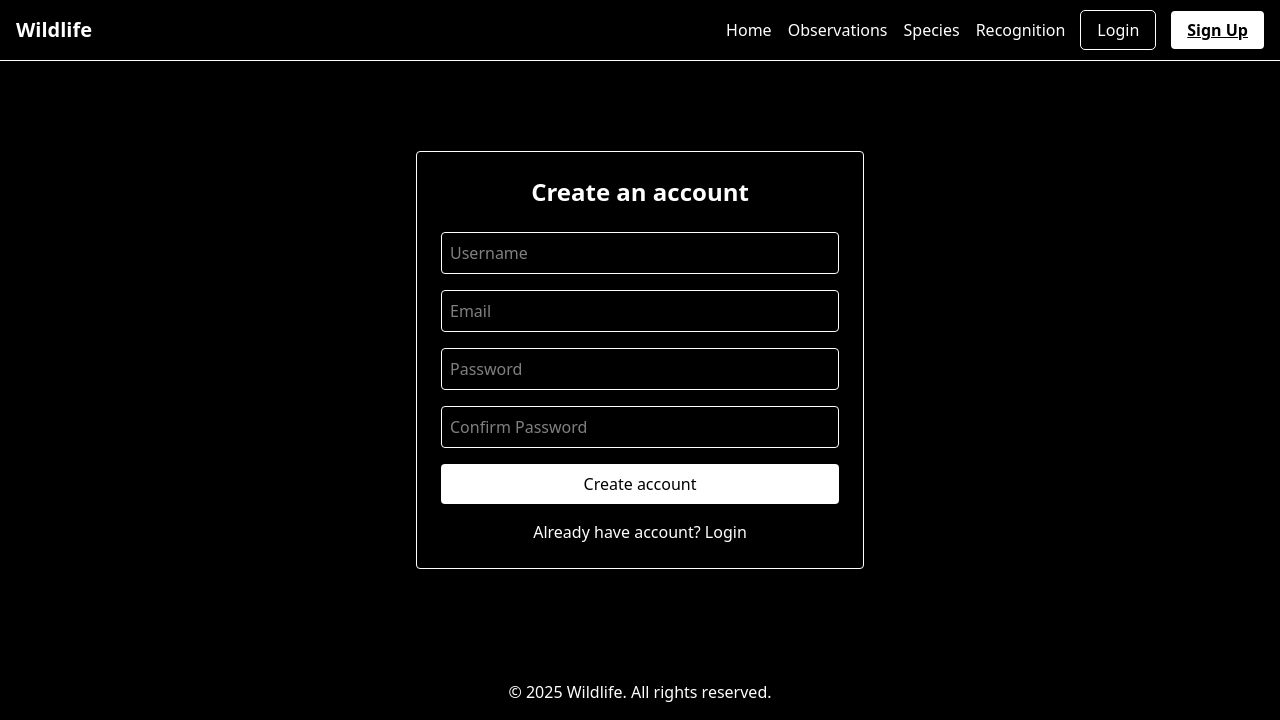
Test: SignUp Page › validates minimum username length
Type "ab" into the field with test id "username-input" at (640, 253), box [441, 232, 839, 274]
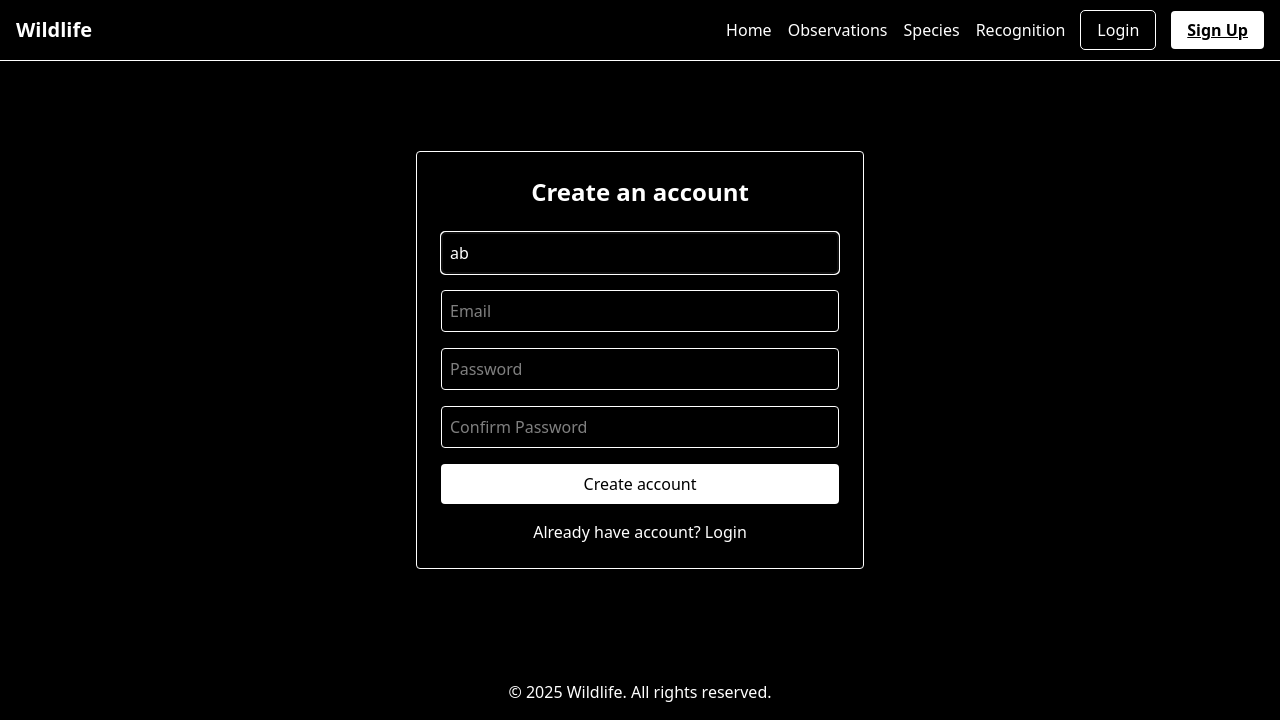
Type "test@example.com" into the field with test id "email-input" at (640, 311), box [441, 290, 839, 332]
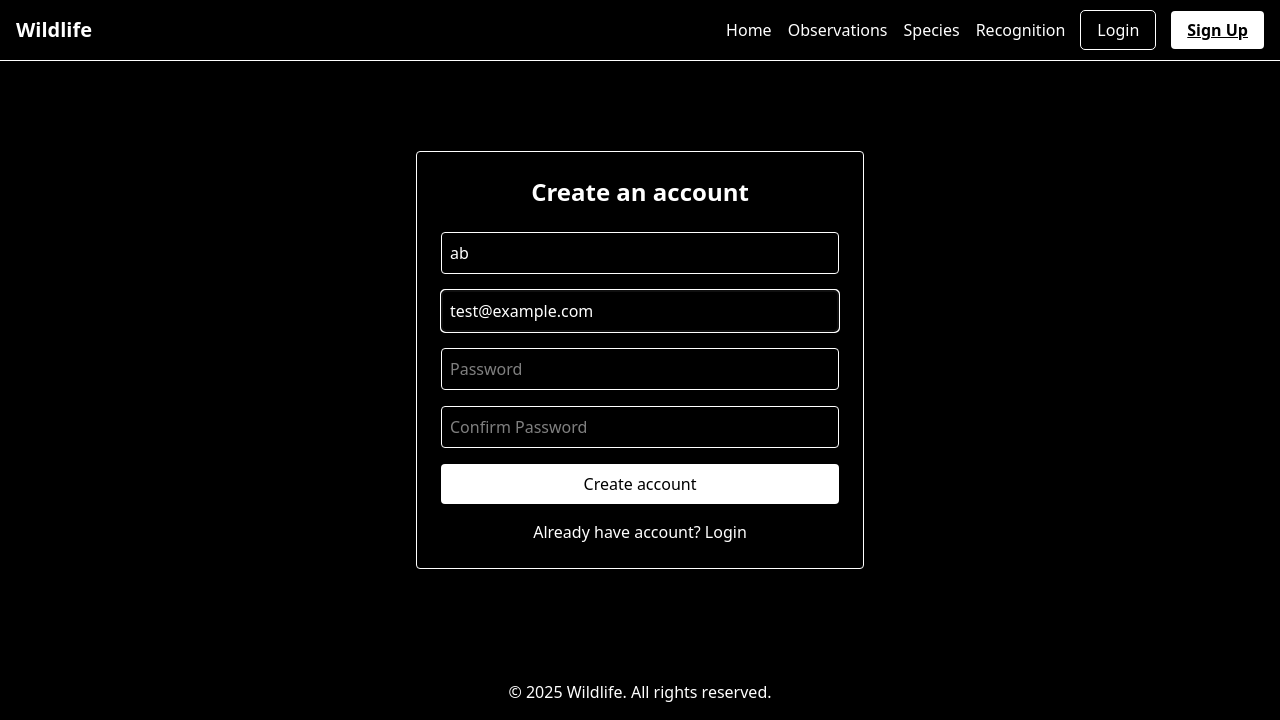
Type "123456" into the password field with test id "password-input" at (640, 369), box [441, 348, 839, 390]
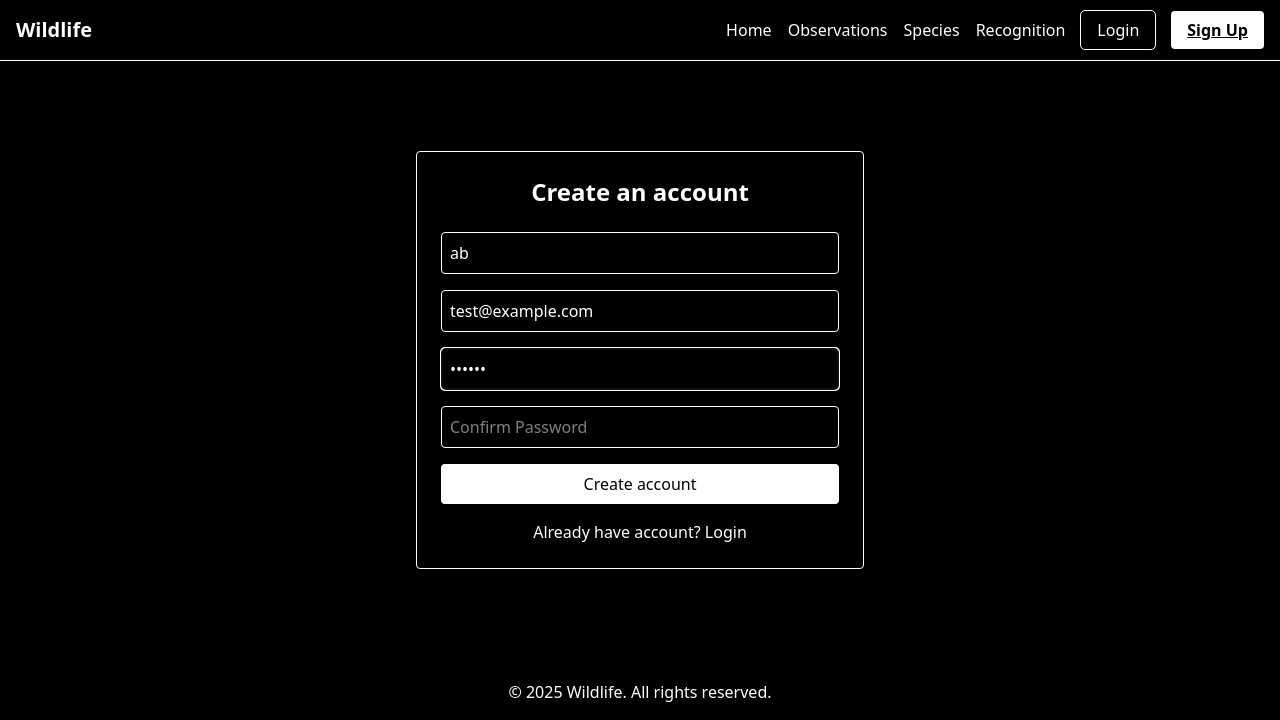
Type "123456" into the password field with test id "confirm-password-input" at (640, 427), box [441, 406, 839, 448]
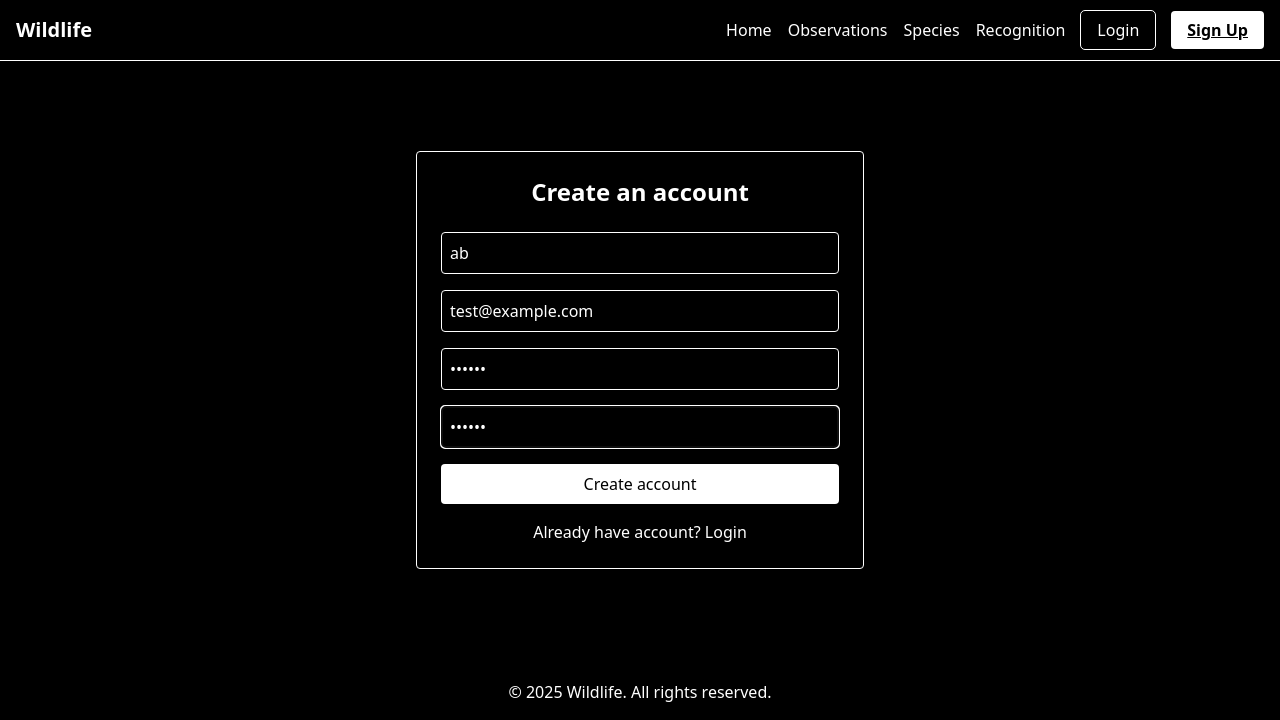
Click the button with test id "signup-button" at (640, 484), box [441, 464, 839, 504]
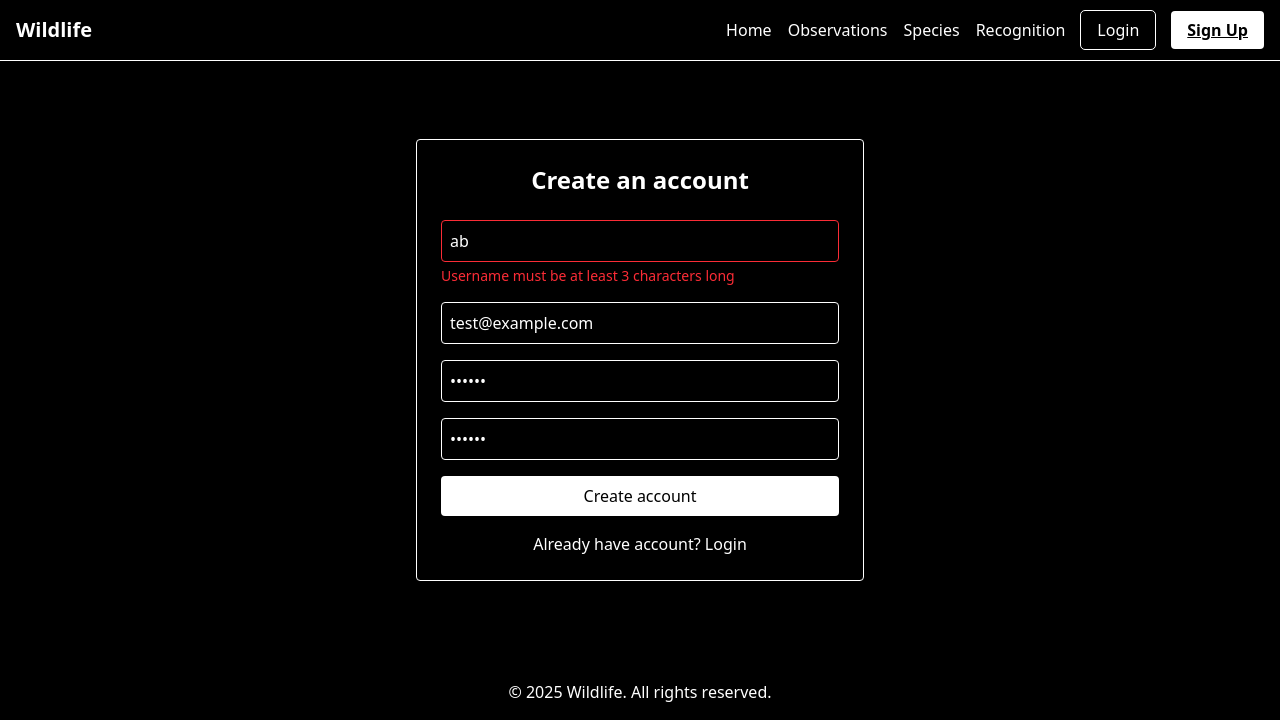
Result: the text with test id "username-error" reads "Username must be at least 3 characters long" at [441, 266, 735, 285]
